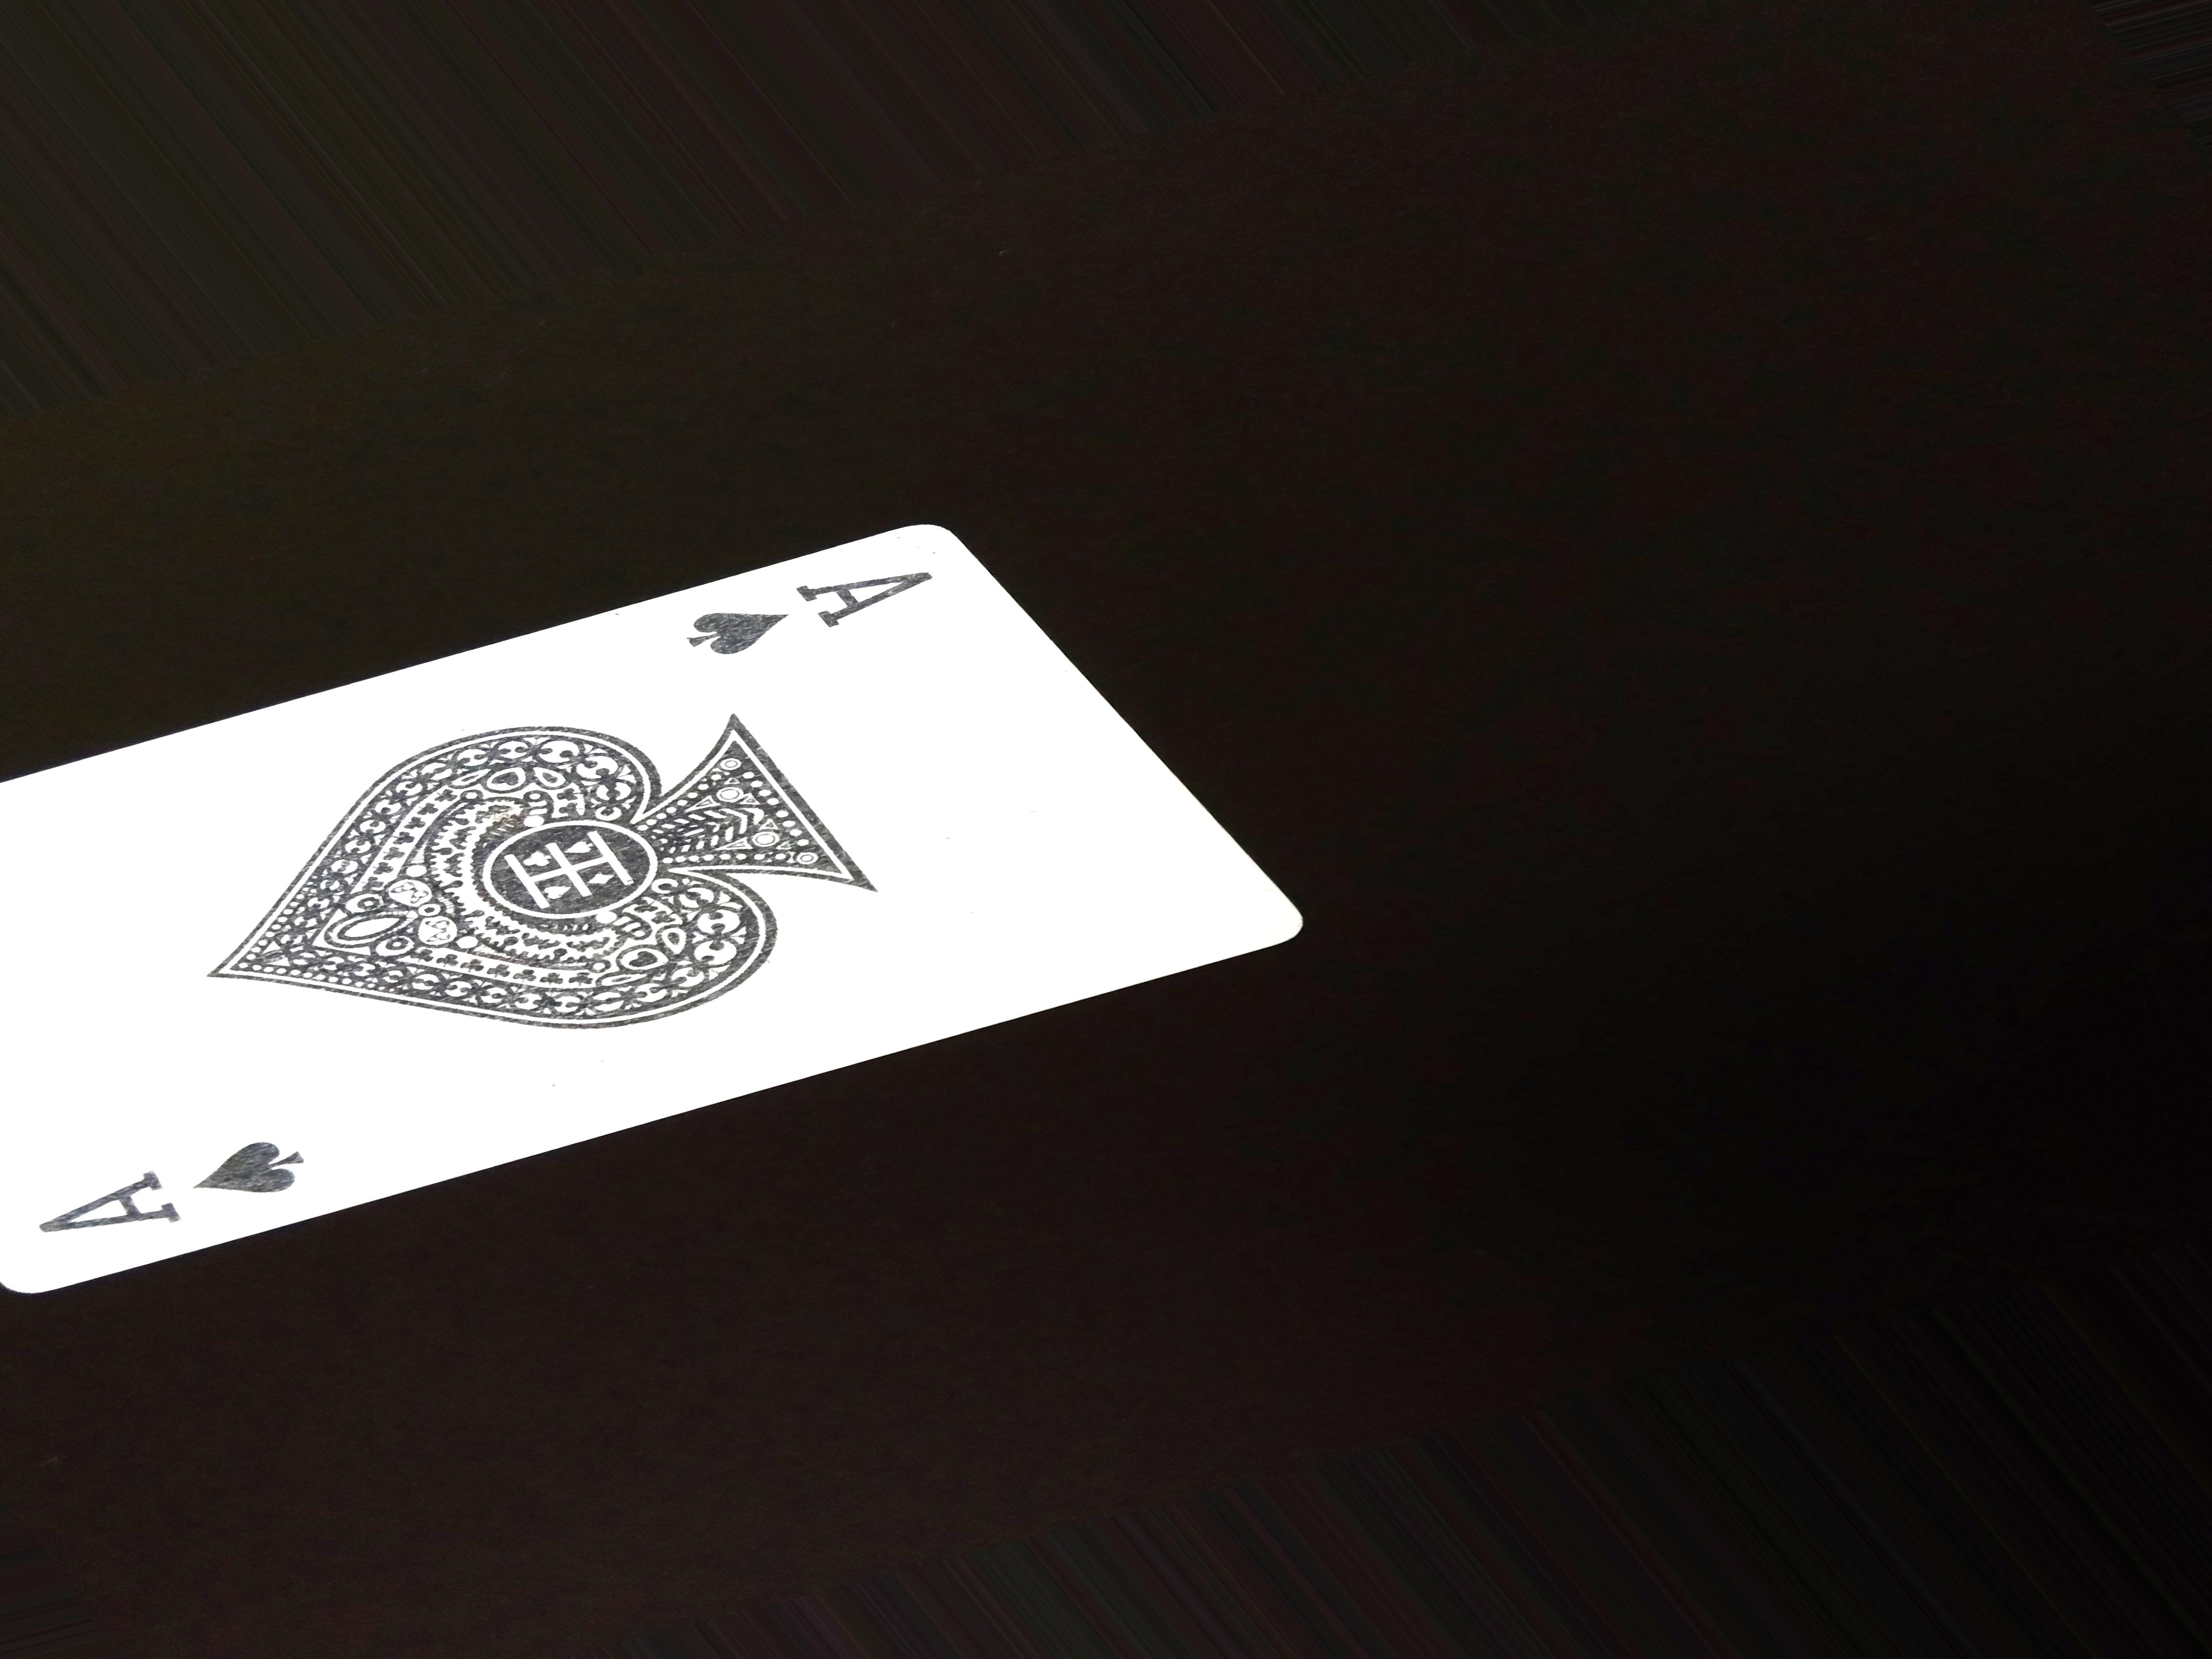AS: (686, 547, 954, 676)
